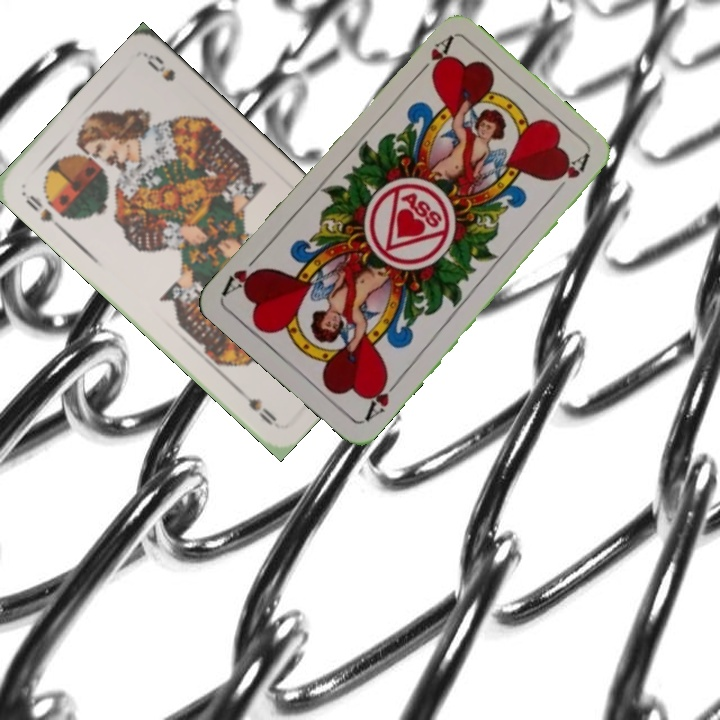HA: (360, 371, 403, 425), (411, 33, 456, 82)
SO: (21, 191, 66, 233)
